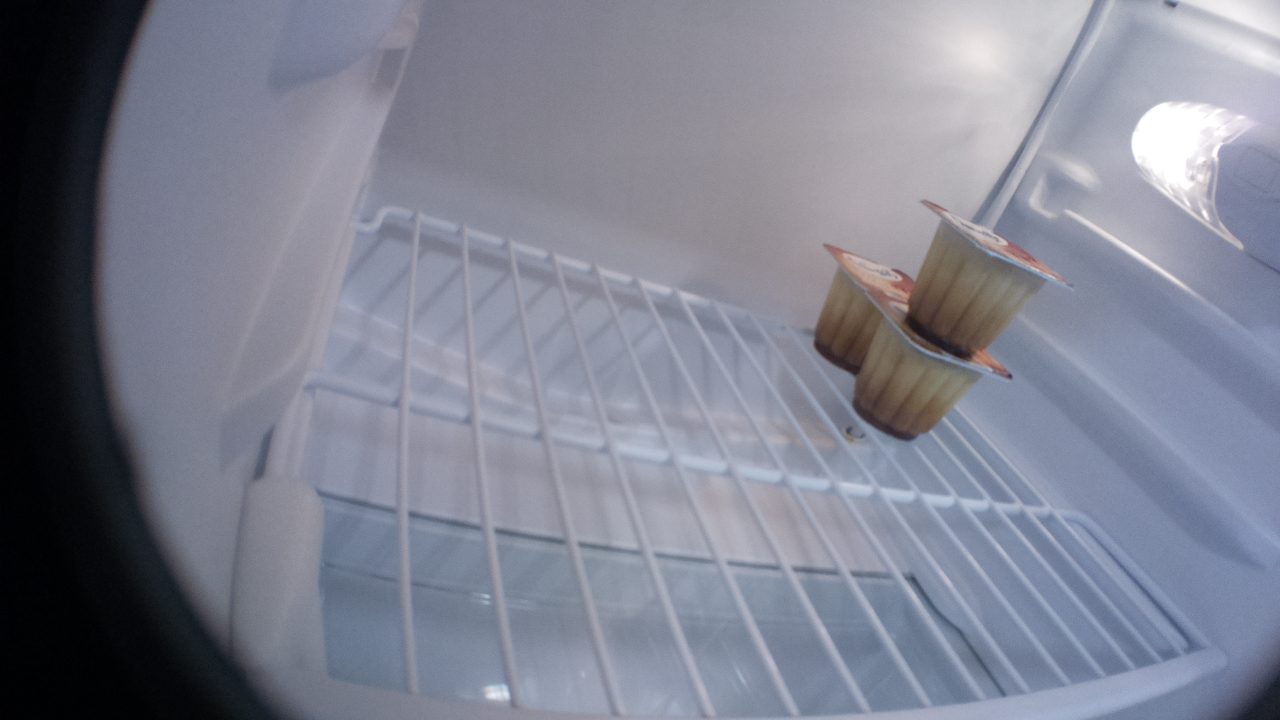caramel: (904, 194, 1079, 361), (851, 291, 1015, 442), (812, 240, 918, 368)
